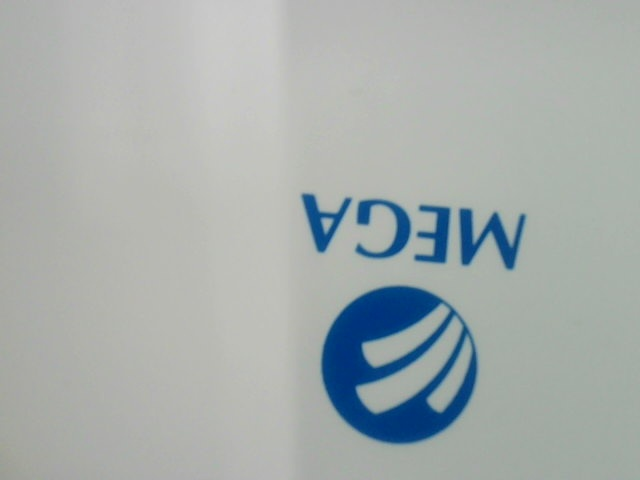AM_ZTEMEGA: (280, 174, 546, 457)
